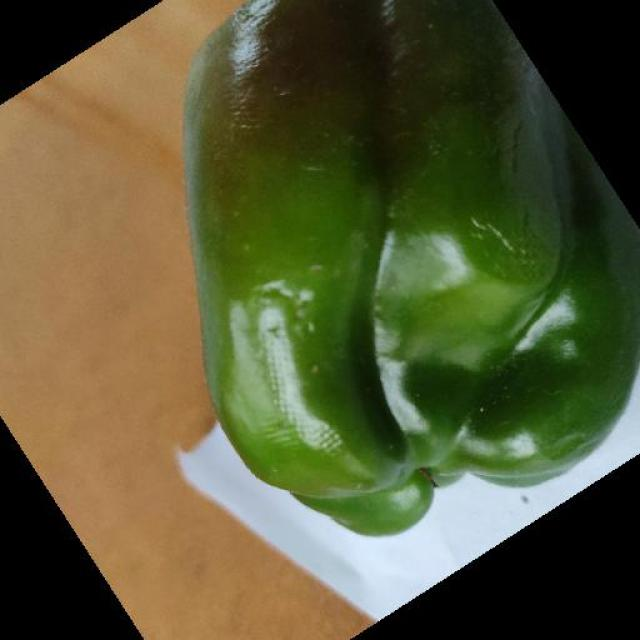Stale_Capsicum: (117, 7, 640, 465)
